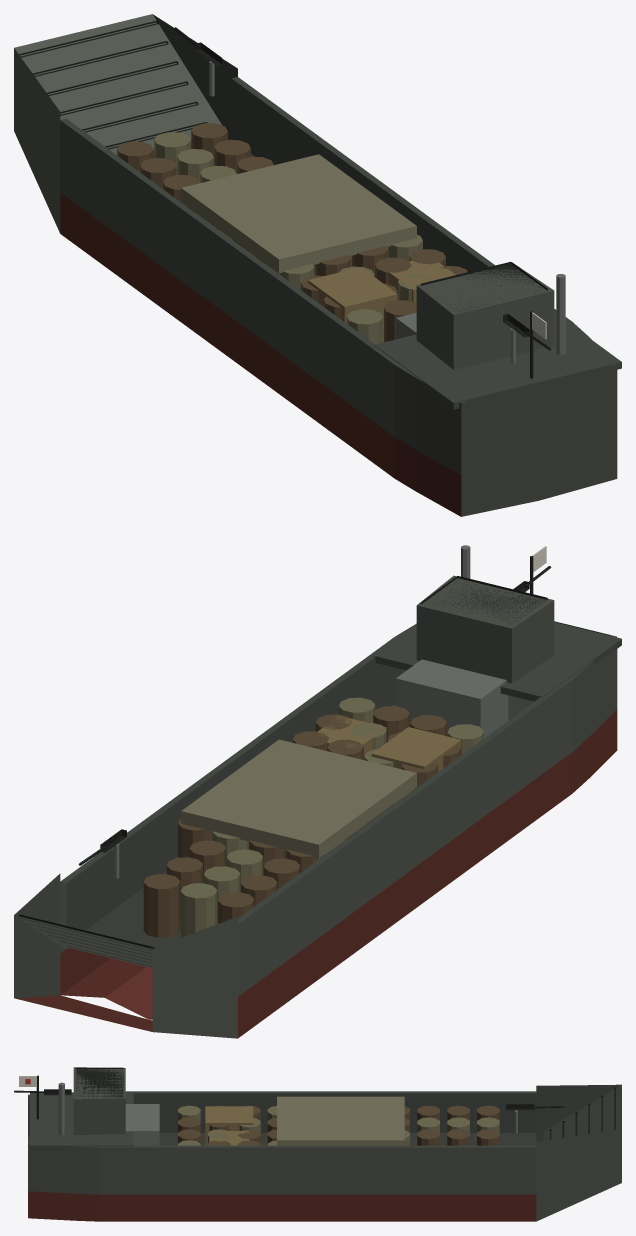
The model's file is daihatsu.glb.
3 renders of one model, top to bottom at view 1: azimuth 30°, elevation 25°; view 2: azimuth 150°, elevation 25°; view 3: azimuth 270°, elevation 25°, orthographic. The views are drawn at different scales.
Visible parts, largest first — view 1: Hull; view 2: Hull; view 3: Hull, MG2.
Part boxes in pixels (x1=…): Hull: x1=14, y1=14, x2=621, y2=516; Hull: x1=14, y1=545, x2=621, y2=1038; Hull: x1=19, y1=1067, x2=621, y2=1221; MG2: x1=506, y1=1104, x2=564, y2=1133.
Size of the model in its own units: 3.35 by 3.5 by 15.25.
